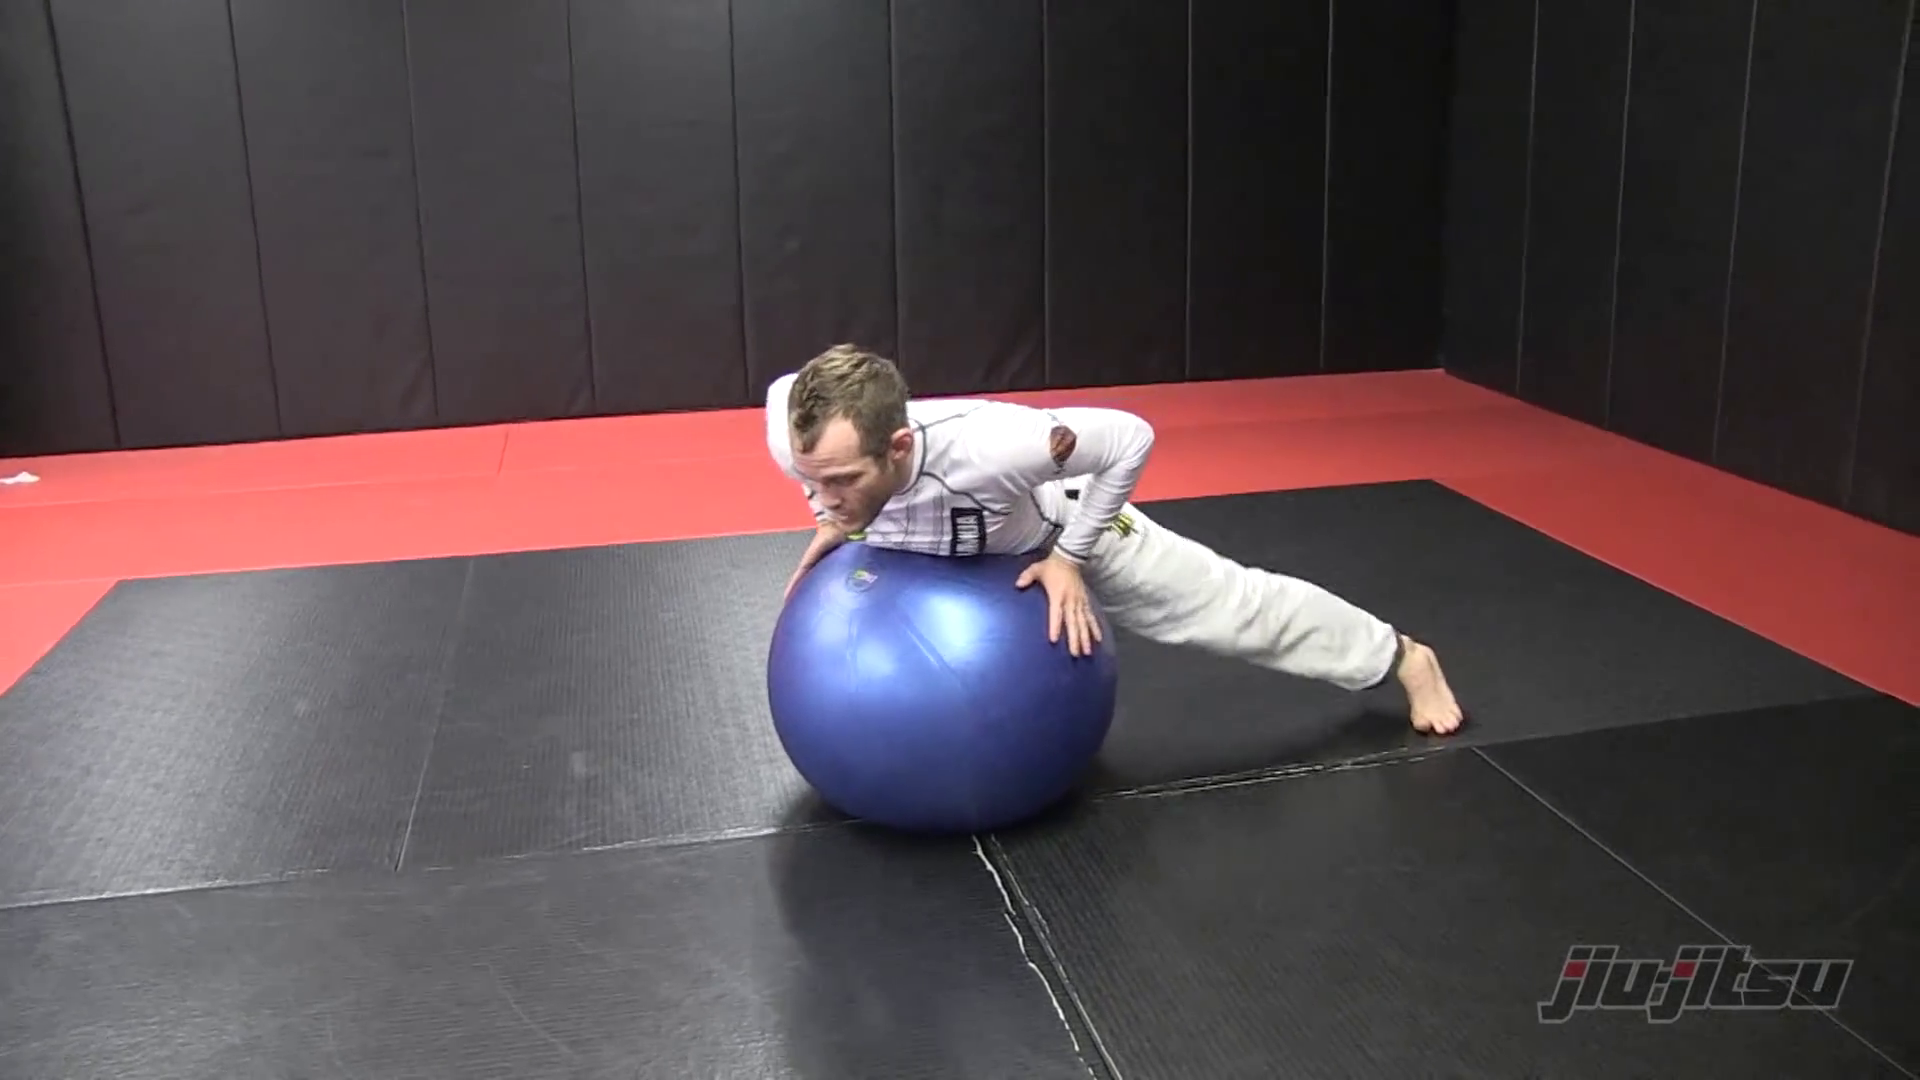yogaball: (749, 541, 1149, 851)
